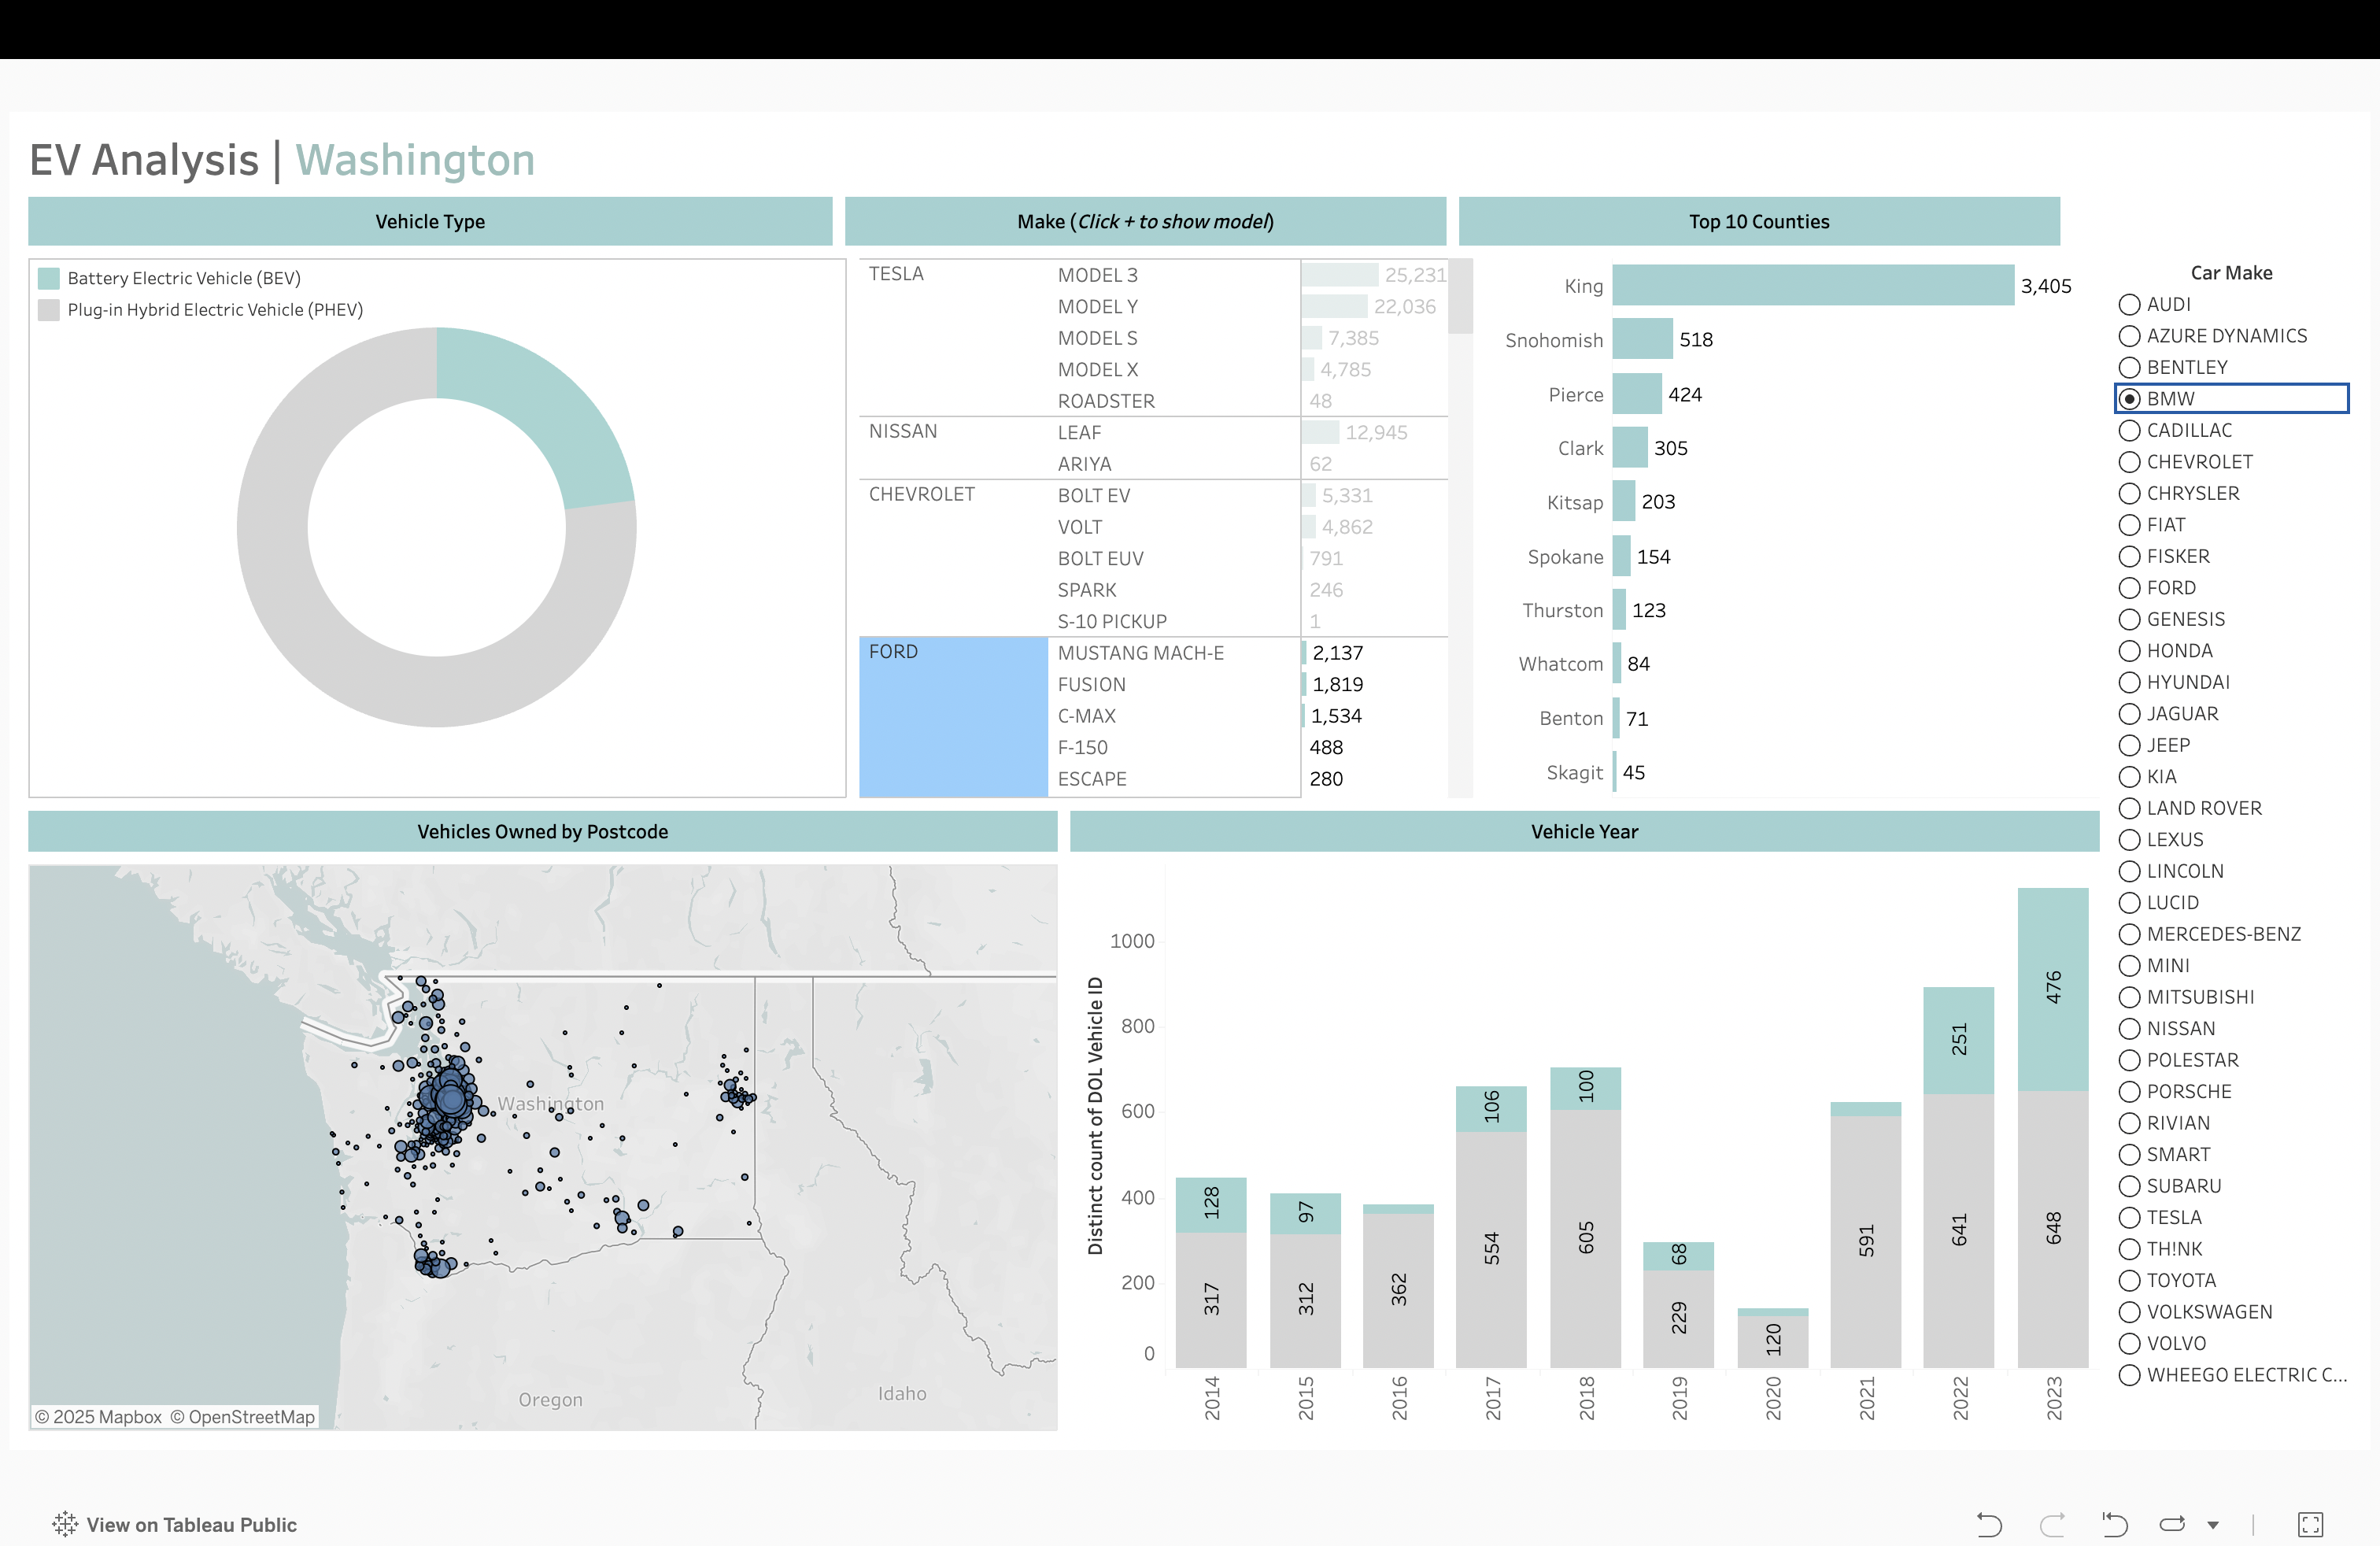

What the dashboard file says about the page in this screenshot:
{"tool":"tableau","page":{"name":"Dashboard 1","canvas":[1500,850],"ordinal":0},"visuals":[{"type":"text","box":[8,8,1484,42.3]},{"type":"text","box":[8,50.3,518.5,39.1]},{"type":"text","box":[526.5,50.3,390.3,39.1]},{"type":"text","box":[916.8,50.3,390.3,39.1]},{"type":"worksheet","title":"Vehicle Type","mark":"Pie","rows":["Calculation_761038007935266818","Calculation_761038007935266818"],"box":[8,89,528,351]},{"type":"worksheet","title":"Make and Model","mark":"Automatic","rows":["Make","Model"],"cols":["DOL Vehicle ID"],"box":[536.4,89.4,397.8,350.6]},{"type":"worksheet","title":"Top 10 Counties","mark":"Automatic","rows":["County"],"cols":["DOL Vehicle ID"],"box":[934.2,89.4,397.8,350.6]},{"type":"parameter","param":"[Parameters].[Parameter 1]","box":[1332,89.4,160,697]},{"type":"legend","title":"Vehicle Type","param":"[federated.117ffmk1945jlb12zr7k11d7nbze].[none:Electric Vehicle Type:nk]","box":[15,96.5,239.8,42.3]},{"type":"text","box":[8,440.1,662,33.5]},{"type":"text","box":[670,440.1,662,33.5]},{"type":"worksheet","title":"Map","mark":"Automatic","box":[8,473.6,662,368.4]},{"type":"worksheet","title":"Year and Type","mark":"Bar","rows":["DOL Vehicle ID"],"cols":["Model Year"],"box":[670,473.6,662,368.4]}]}

Visuals, with their boxes on the page's 1500x850 design canvas (x1, y1, x2, y2). These are canvas units, not pixel positions in the 2380x1546 screenshot, which may show the page scaled, cropped or inside an application window:
text: box=[8, 8, 1492, 50]
text: box=[8, 50, 526, 89]
text: box=[526, 50, 917, 89]
text: box=[917, 50, 1307, 89]
"Vehicle Type" worksheet (Pie marks): box=[8, 89, 536, 440]
"Make and Model" worksheet: box=[536, 89, 934, 440]
"Top 10 Counties" worksheet: box=[934, 89, 1332, 440]
parameter: box=[1332, 89, 1492, 786]
"Vehicle Type" legend: box=[15, 96, 255, 139]
text: box=[8, 440, 670, 474]
text: box=[670, 440, 1332, 474]
"Map" worksheet: box=[8, 474, 670, 842]
"Year and Type" worksheet (Bar marks): box=[670, 474, 1332, 842]
